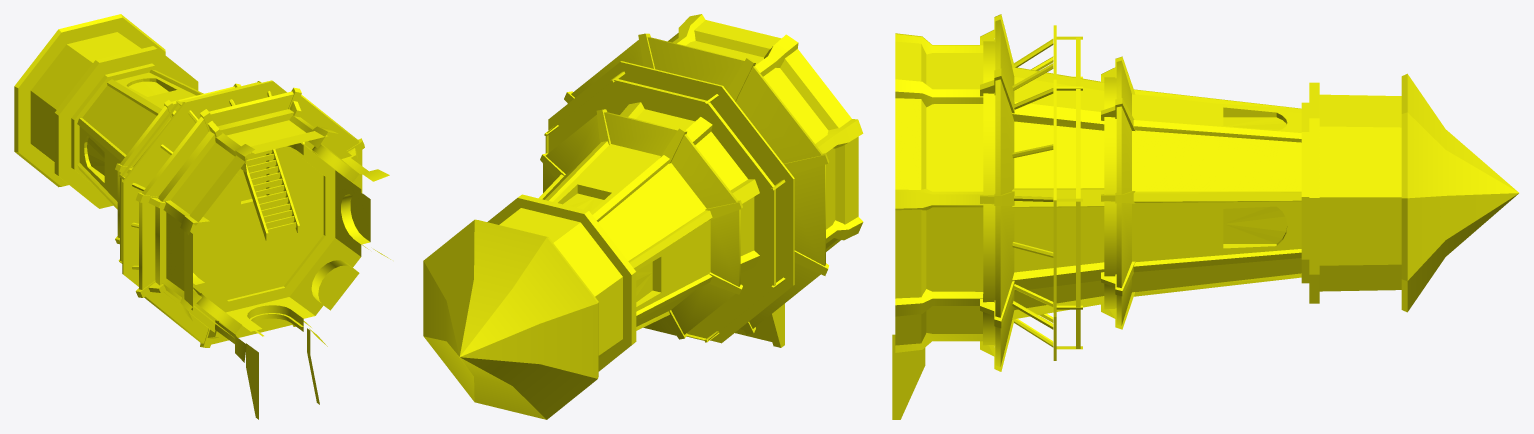
Rendered from windmill.glb.
3 views of the same model, side by side, from view 1: azimuth 30°, elevation 25°; view 2: azimuth 150°, elevation 25°; view 3: azimuth 270°, elevation 25° (orthographic). The views are drawn at different scales.
Visible parts, largest first — view 1: Windmill_LOD0; view 2: Windmill_LOD0; view 3: Windmill_LOD0.
Part boxes in pixels (x1,y1,x2,y2): Windmill_LOD0: (14,14,390,419); Windmill_LOD0: (423,14,863,419); Windmill_LOD0: (892,14,1518,419).
Size of what is drawn, in the model's own units: 14.52 by 17.12 by 27.21.
1 material, 1 textured.
